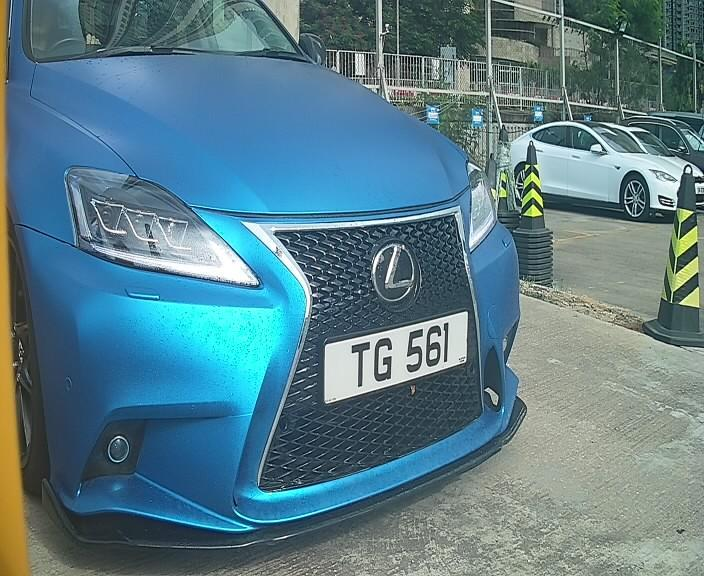Car: (41, 31, 529, 543)
License Plate: (310, 309, 472, 412)
